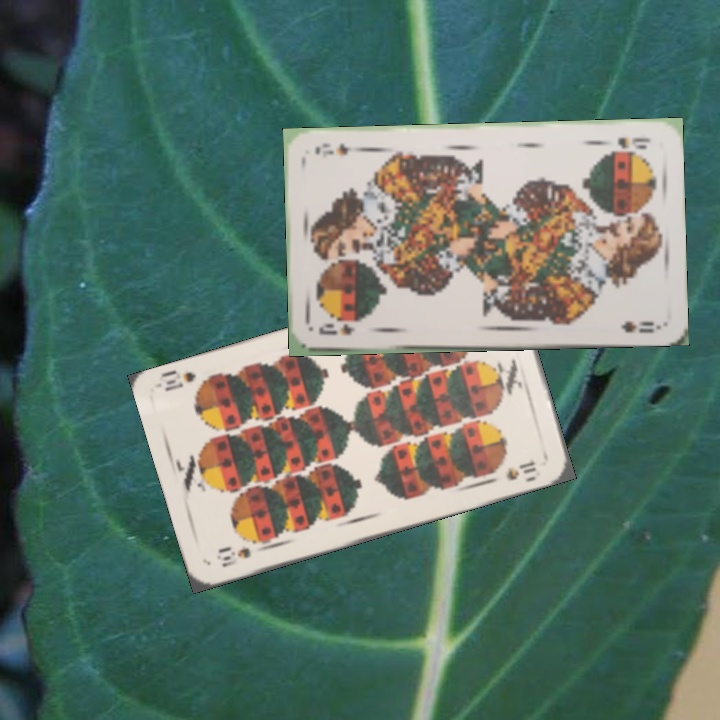S10: (212, 542, 253, 570)
SO: (314, 319, 357, 338), (614, 133, 653, 152)
